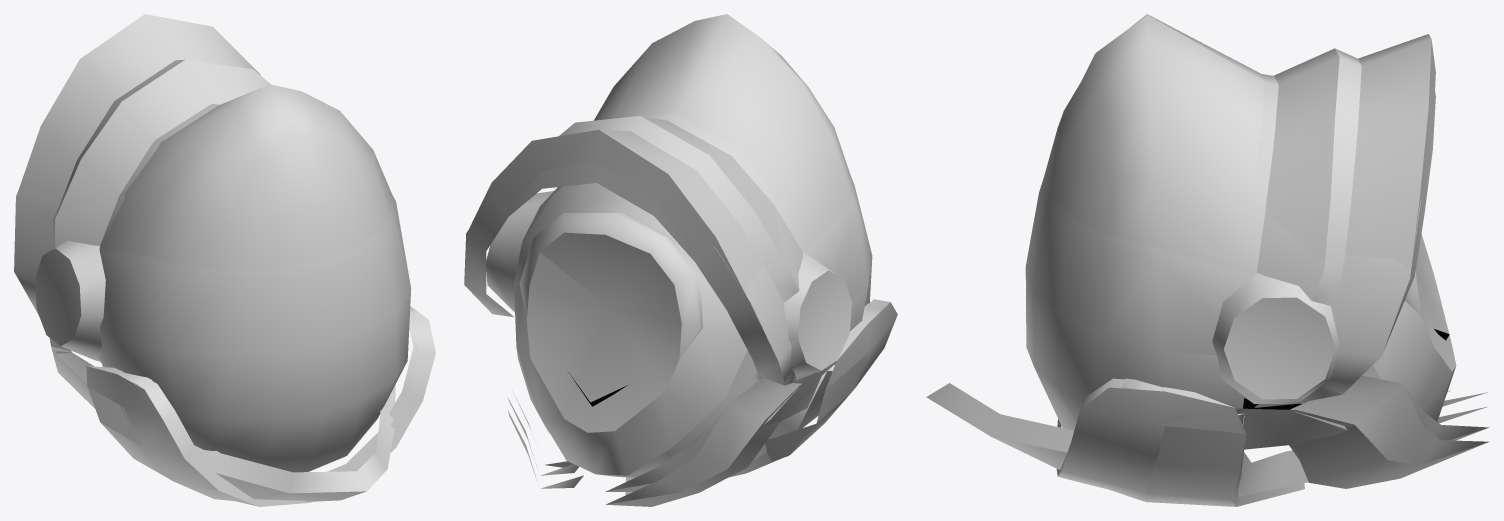
3 views of the same model, side by side, from view 1: azimuth 30°, elevation 25°; view 2: azimuth 150°, elevation 25°; view 3: azimuth 270°, elevation 25° (orthographic). The views are drawn at different scales.
Parts seen in each view (by area): view 1: parts.modelset-MeshSets[helm_warden_3].Mesh[0], parts.modelset-MeshSets[helm_warden_1].Mesh[0], parts.modelset-MeshSets[helm_warden_2].Mesh[0]; view 2: parts.modelset-MeshSets[helm_warden_2].Mesh[0], parts.modelset-MeshSets[helm_warden_3].Mesh[0], parts.modelset-MeshSets[helm_warden_1].Mesh[0]; view 3: parts.modelset-MeshSets[helm_warden_3].Mesh[0], parts.modelset-MeshSets[helm_warden_2].Mesh[0], parts.modelset-MeshSets[helm_warden_1].Mesh[0].
Boxes of the visible parts, x1,y1,x2,y2 form: parts.modelset-MeshSets[helm_warden_3].Mesh[0]: (18,14,395,501); parts.modelset-MeshSets[helm_warden_1].Mesh[0]: (35,103,435,506); parts.modelset-MeshSets[helm_warden_2].Mesh[0]: (14,187,423,501); parts.modelset-MeshSets[helm_warden_2].Mesh[0]: (464,161,884,491); parts.modelset-MeshSets[helm_warden_3].Mesh[0]: (464,14,852,506); parts.modelset-MeshSets[helm_warden_1].Mesh[0]: (486,114,897,488); parts.modelset-MeshSets[helm_warden_3].Mesh[0]: (926,14,1489,496); parts.modelset-MeshSets[helm_warden_2].Mesh[0]: (1025,91,1489,506); parts.modelset-MeshSets[helm_warden_1].Mesh[0]: (1025,73,1450,500).
Bounding box in the file's own units: 0.5068 × 0.6382 × 0.6855.
Materials: 2 (1 with a texture image).
